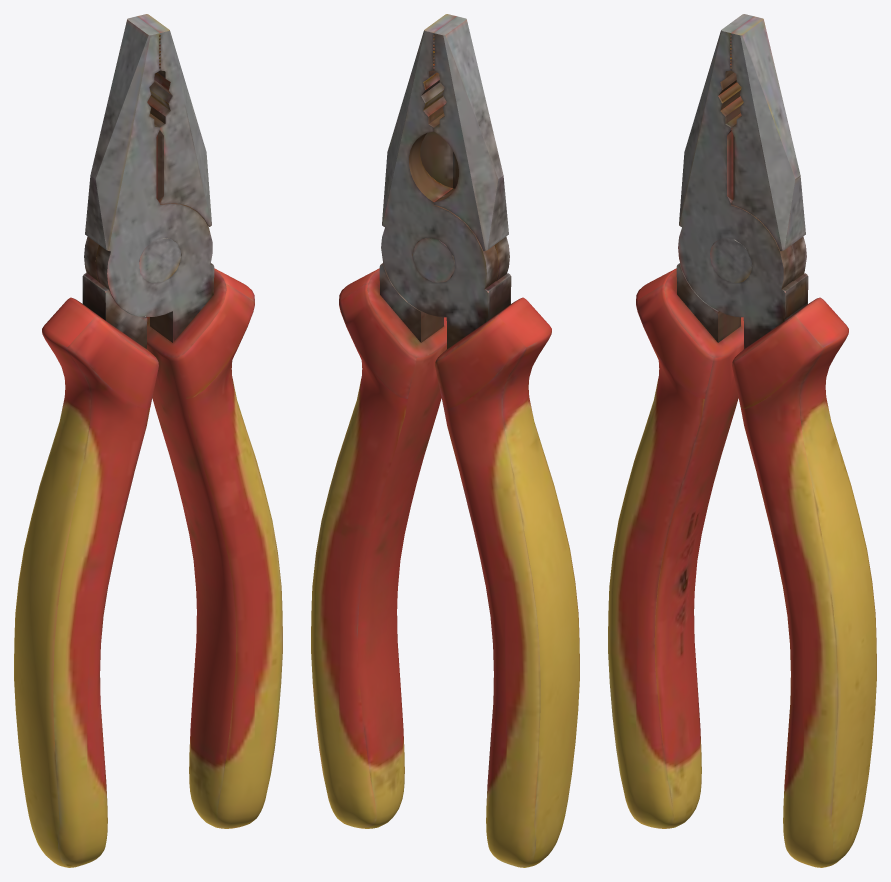
File: pliers.glb
The picture shows the model from 3 angles, left to right: view 1: azimuth 30°, elevation 25°; view 2: azimuth 150°, elevation 25°; view 3: azimuth 330°, elevation 25°; orthographic projection.
Parts seen in each view (by area): view 1: pliers_b; view 2: pliers_b; view 3: pliers_b.
Part boxes in pixels (x1=…): pliers_b: x1=14, y1=14, x2=282, y2=867; pliers_b: x1=311, y1=14, x2=579, y2=867; pliers_b: x1=608, y1=14, x2=876, y2=867.
Bounding box in the file's own units: 0.0553 × 0.1798 × 0.0179.
Materials: 1 (1 with a texture image).
